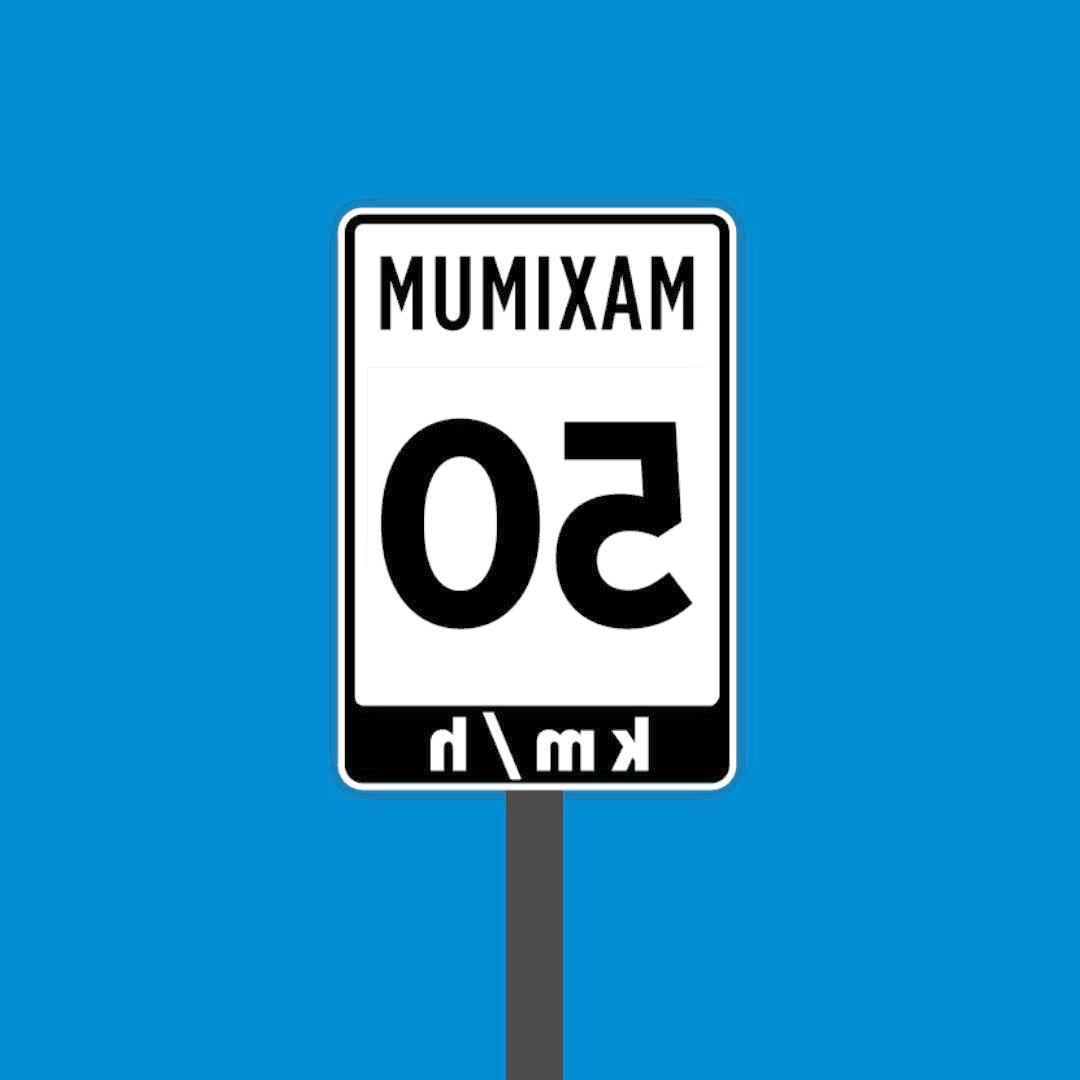speed limit sign: (341, 211, 737, 790)
